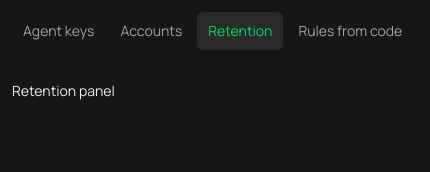
Test: SettingsTabs › writes the chosen tab into the address and keeps other parameters
The image size is (430, 172).
Click the tab "Rules from code" at (350, 31), box [287,12,413,50]
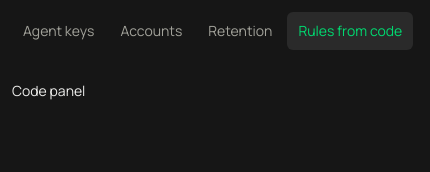
Check: the text "Code panel" is shown, box [12,81,85,100]
